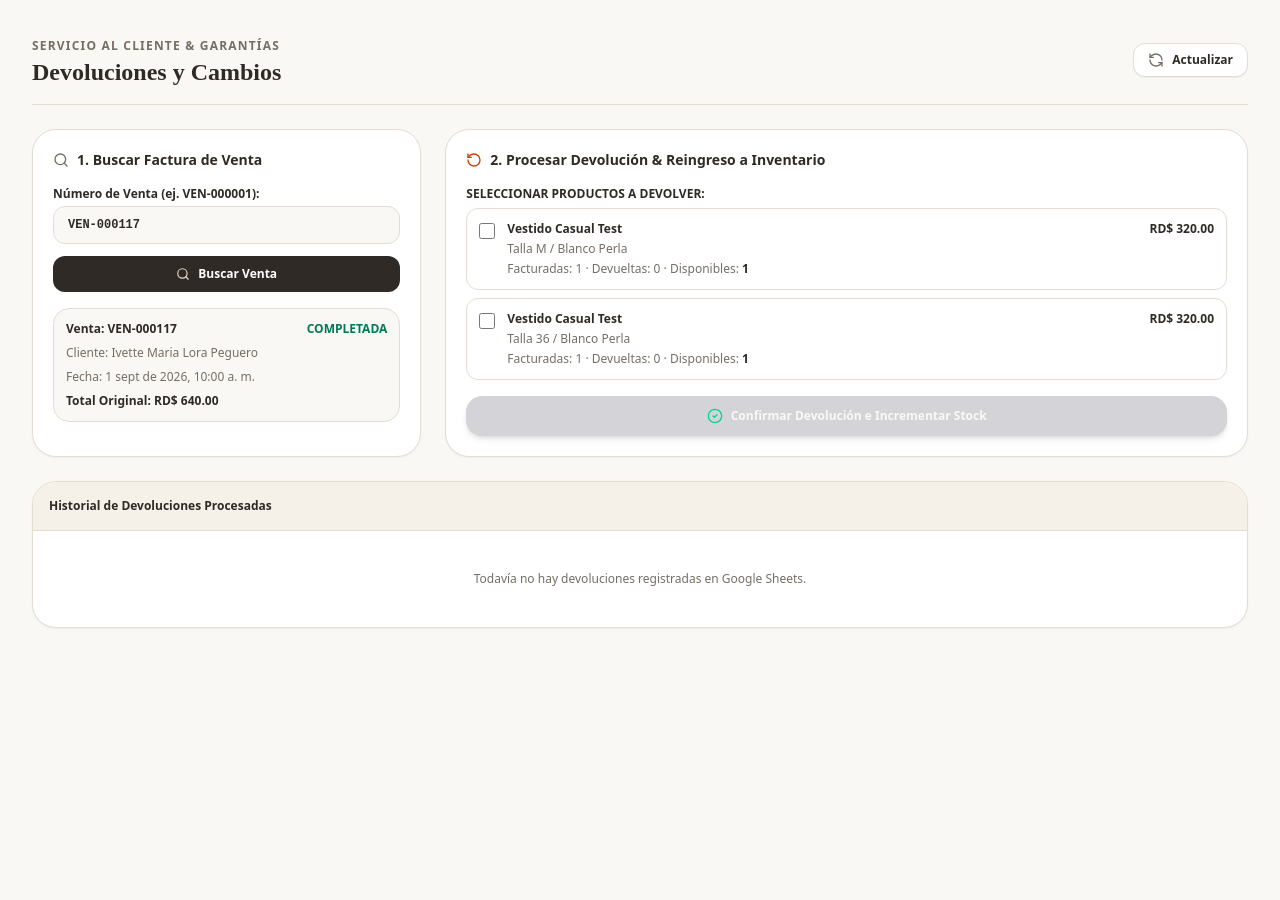
Scenario: ReturnsView -- selección múltiple de productos de una misma factura › seleccionar solo A: la UI anticipa DEVUELTA_PARCIAL; seleccionar A+B: anticipa DEVUELTA_TOTAL
Expected: the text "Venta: VEN-000117" is shown, [66,321,177,337]
Click the checkbox named "Seleccionar Vestido Casual Test talla M color Blanco Perla" at (487, 231), box [479,223,495,239]
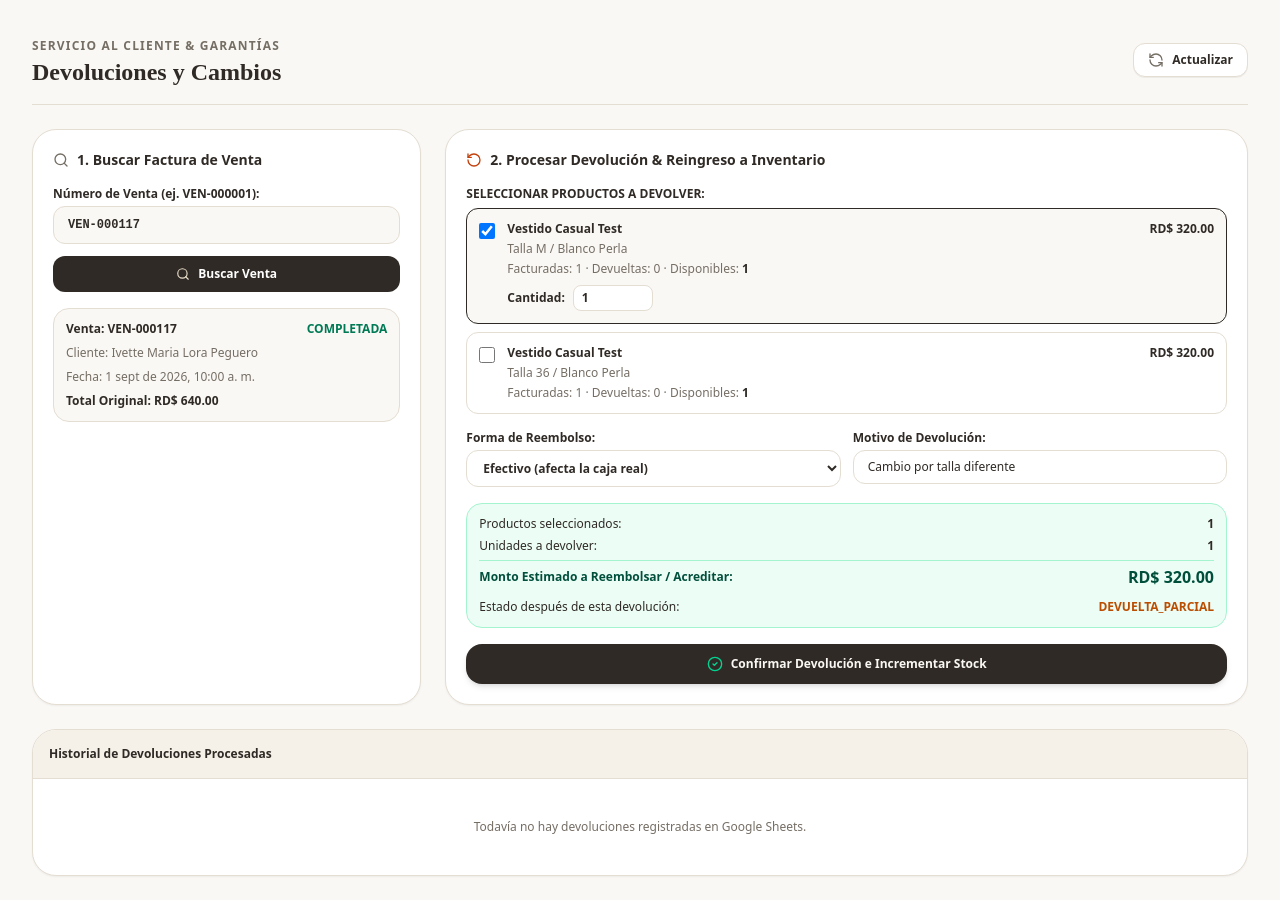
Now the text "DEVUELTA_PARCIAL" is shown, box [1098,599,1214,615]
Click the checkbox named "Seleccionar Vestido Casual Test talla 36 color Blanco Perla" at (487, 355), box [479,347,495,363]
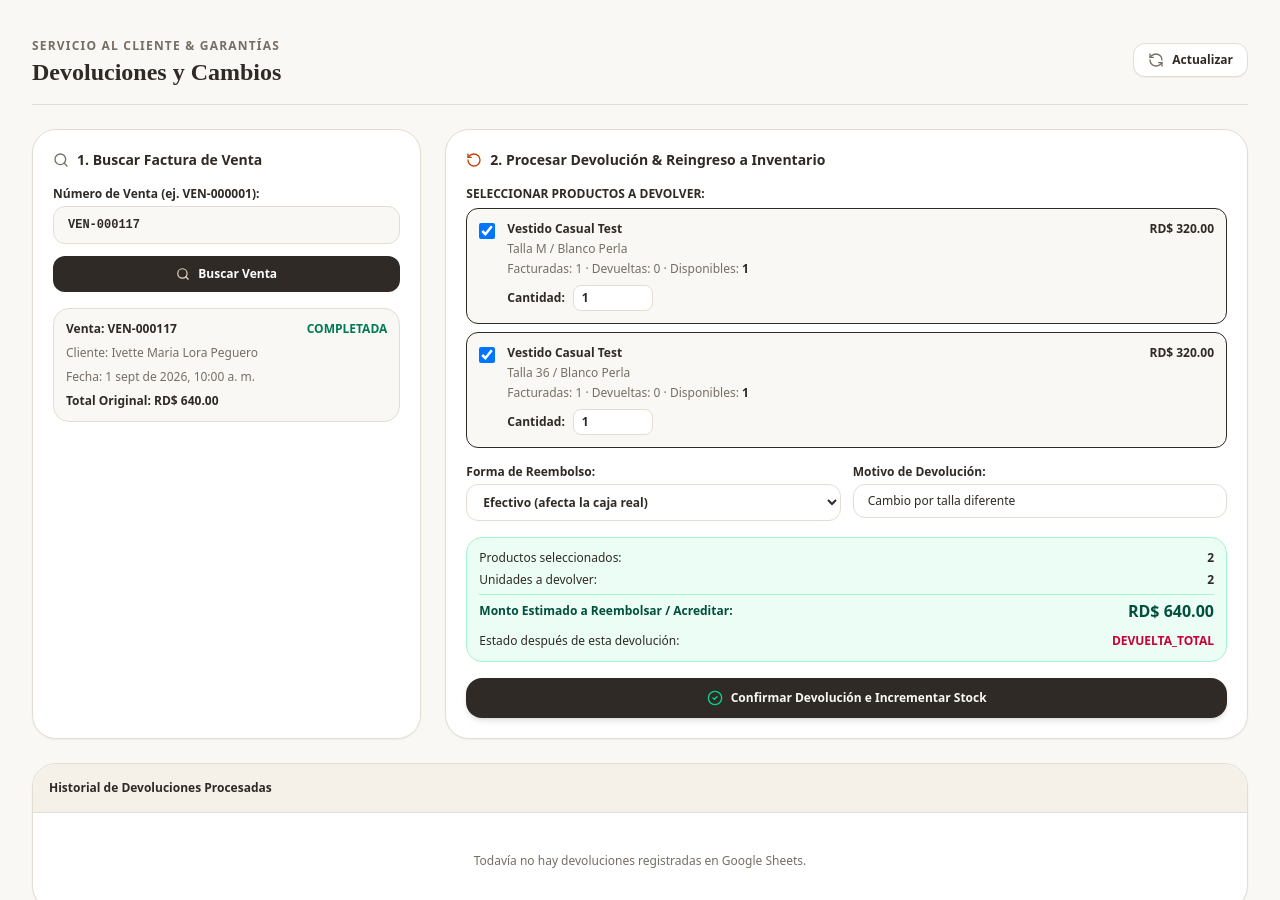
Now the text "DEVUELTA_TOTAL" is shown, box [1112,633,1214,649]
